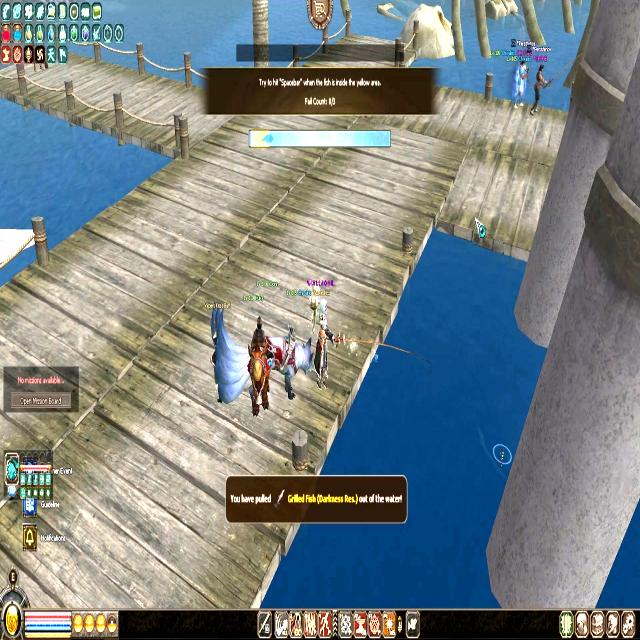box: (251, 131, 270, 147)
fishes: (263, 136, 272, 144)
